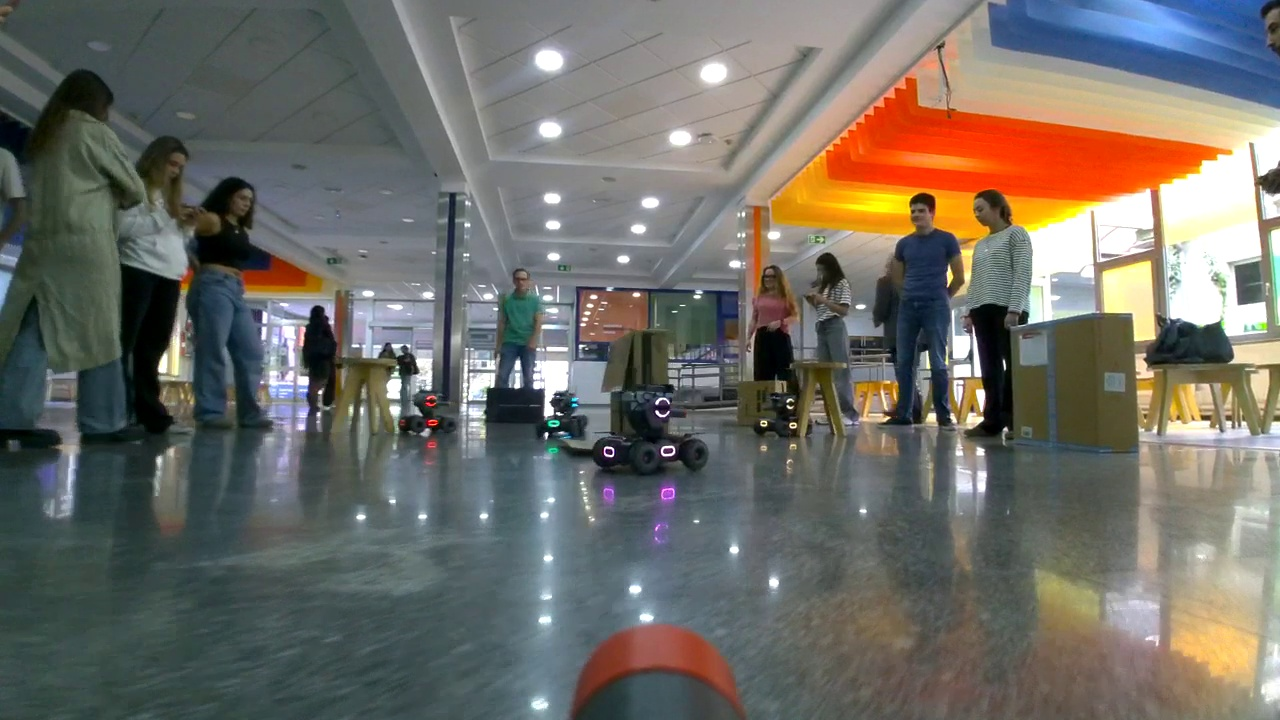robot: (594, 384, 705, 467)
